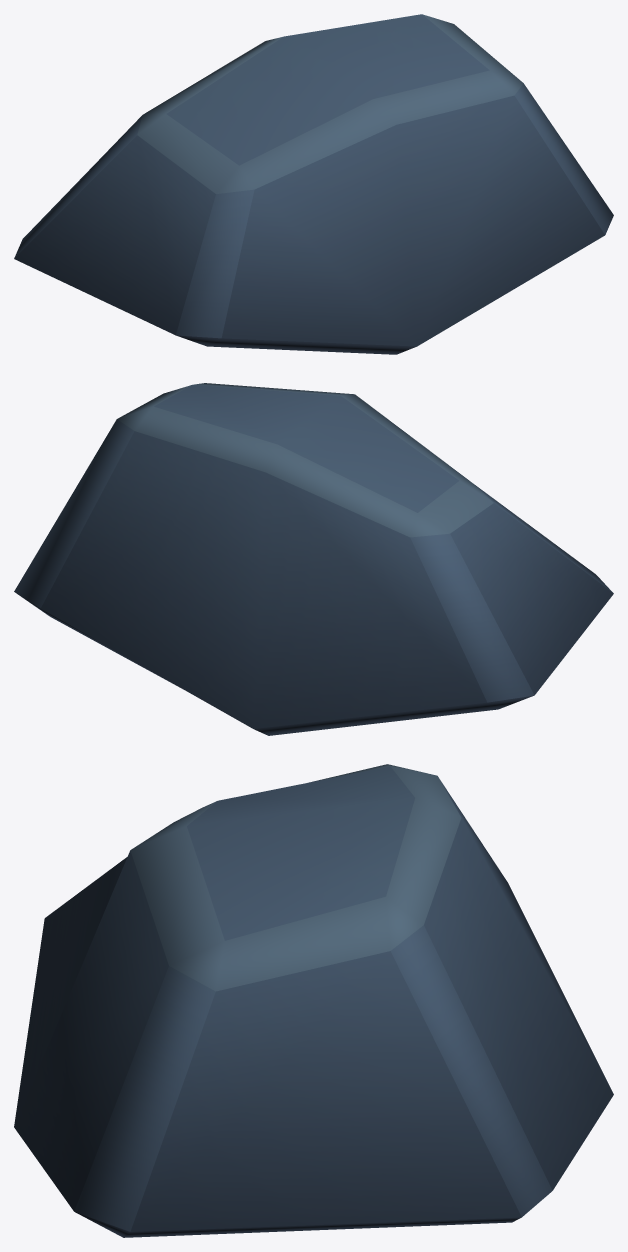
The model's file is rock_023.fbx.
3 renders of one model, top to bottom at view 1: azimuth 30°, elevation 25°; view 2: azimuth 150°, elevation 25°; view 3: azimuth 270°, elevation 25°, orthographic. The views are drawn at different scales.
Parts seen in each view (by area): view 1: rock_023; view 2: rock_023; view 3: rock_023.
Part boxes in pixels (<box>): rock_023: <box>14,14,613,354</box>; rock_023: <box>14,383,613,735</box>; rock_023: <box>14,764,613,1237</box>.
Bounding box in the file's own units: 253 × 114 × 174.
1 material, 1 textured.
